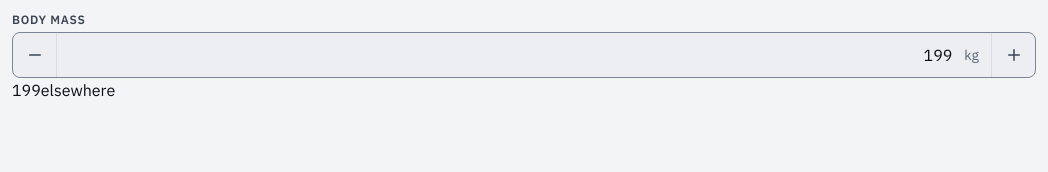
Test case: NumberField › has − and + buttons named after the field, out of the tab order, disabled at the limits
This screenshot has width=1048, height=172.
Click the button named "Increase Body mass": [1013, 55] box [991, 33, 1035, 77]
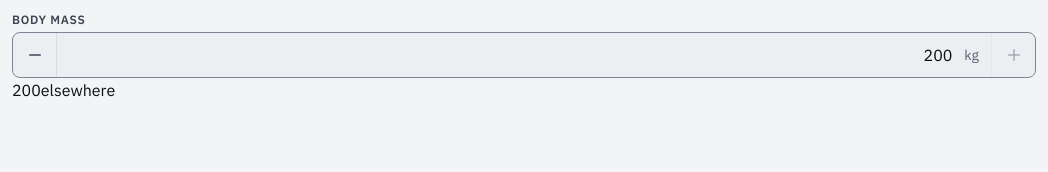
Now the text with test id "stored" reads "200", box [12, 80, 41, 100]
Now the button named "Increase Body mass" is disabled, box [991, 33, 1035, 77]
Click the button named "Decrease Body mass": [35, 55] box [13, 33, 57, 77]
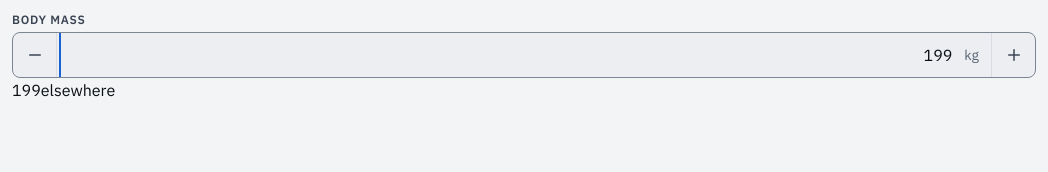
Now the text with test id "stored" reads "199", box [12, 80, 41, 100]
Now the button named "Increase Body mass" is enabled, box [991, 33, 1035, 77]
